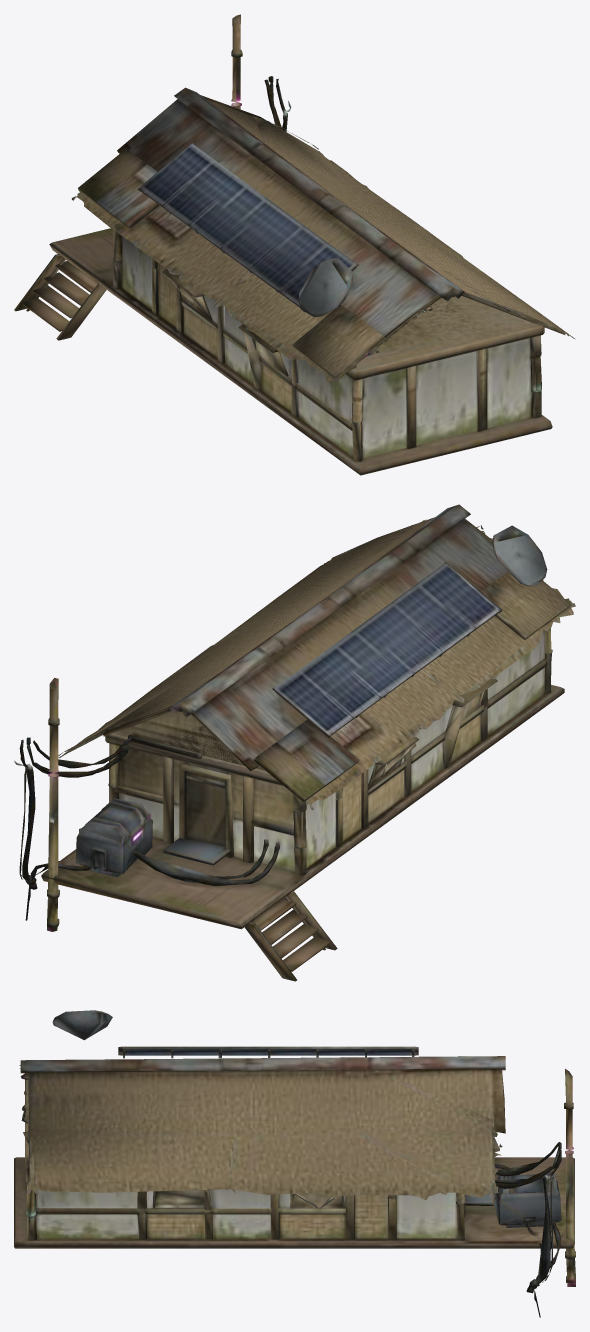
The model's file is highland_longhouse.glb.
The picture shows the model from 3 angles, top to bottom: view 1: azimuth 30°, elevation 25°; view 2: azimuth 150°, elevation 25°; view 3: azimuth 270°, elevation 25°; orthographic projection. The views are drawn at different scales.
Visible parts, largest first — view 1: Body; view 2: Body; view 3: Body.
Boxes of the visible parts, x1,y1,x2,y2 form: Body: (14,14,575,475); Body: (14,504,575,981); Body: (14,1010,575,1317).
Size of the model in its own units: 13.84 by 12.24 by 27.2.
1 material, 1 textured.
